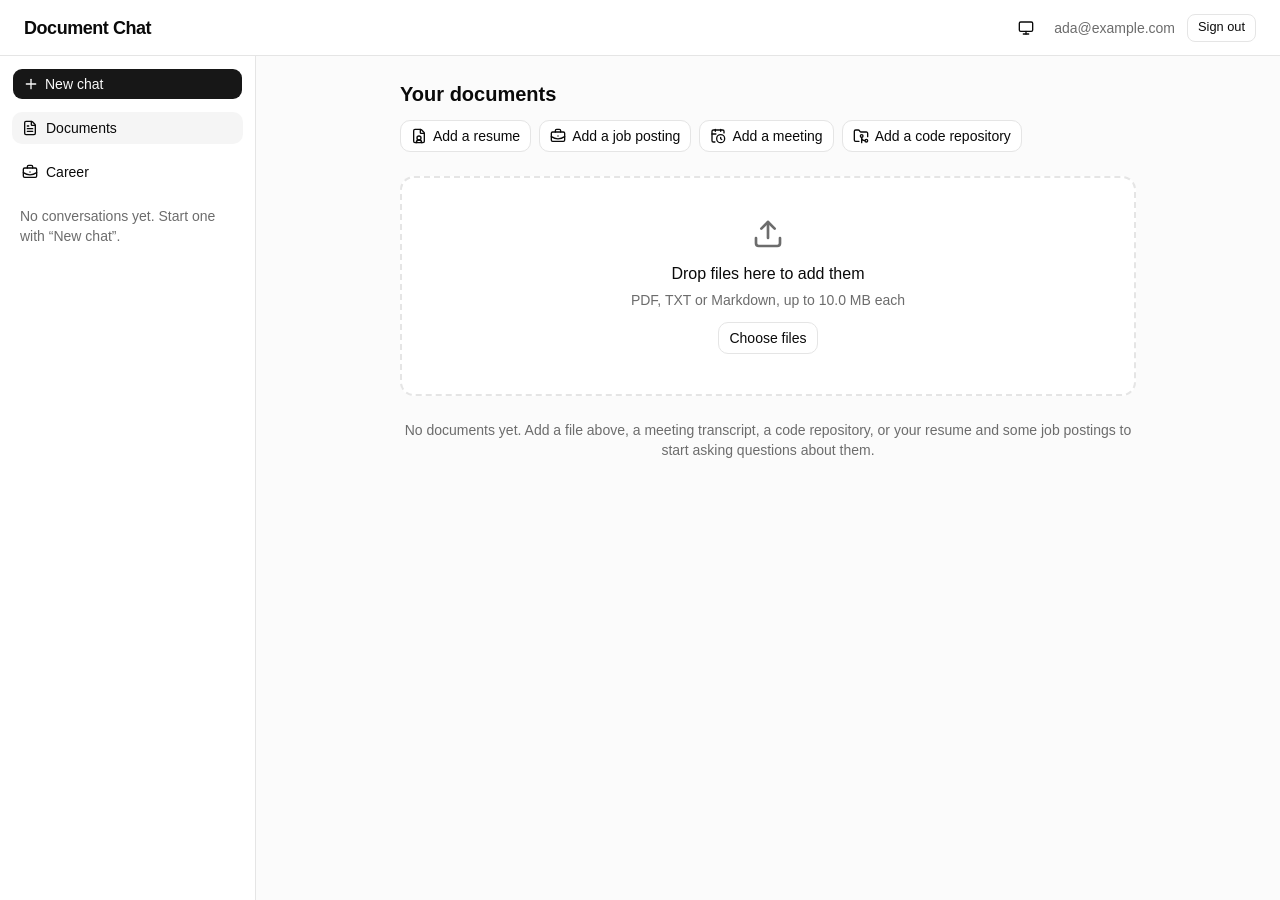
Scenario: adding a job posting › the dialog › opens from the documents page and says that postings are numbered
Click the button "Add a job posting". click: (615, 136)
box: [539,120,691,152]
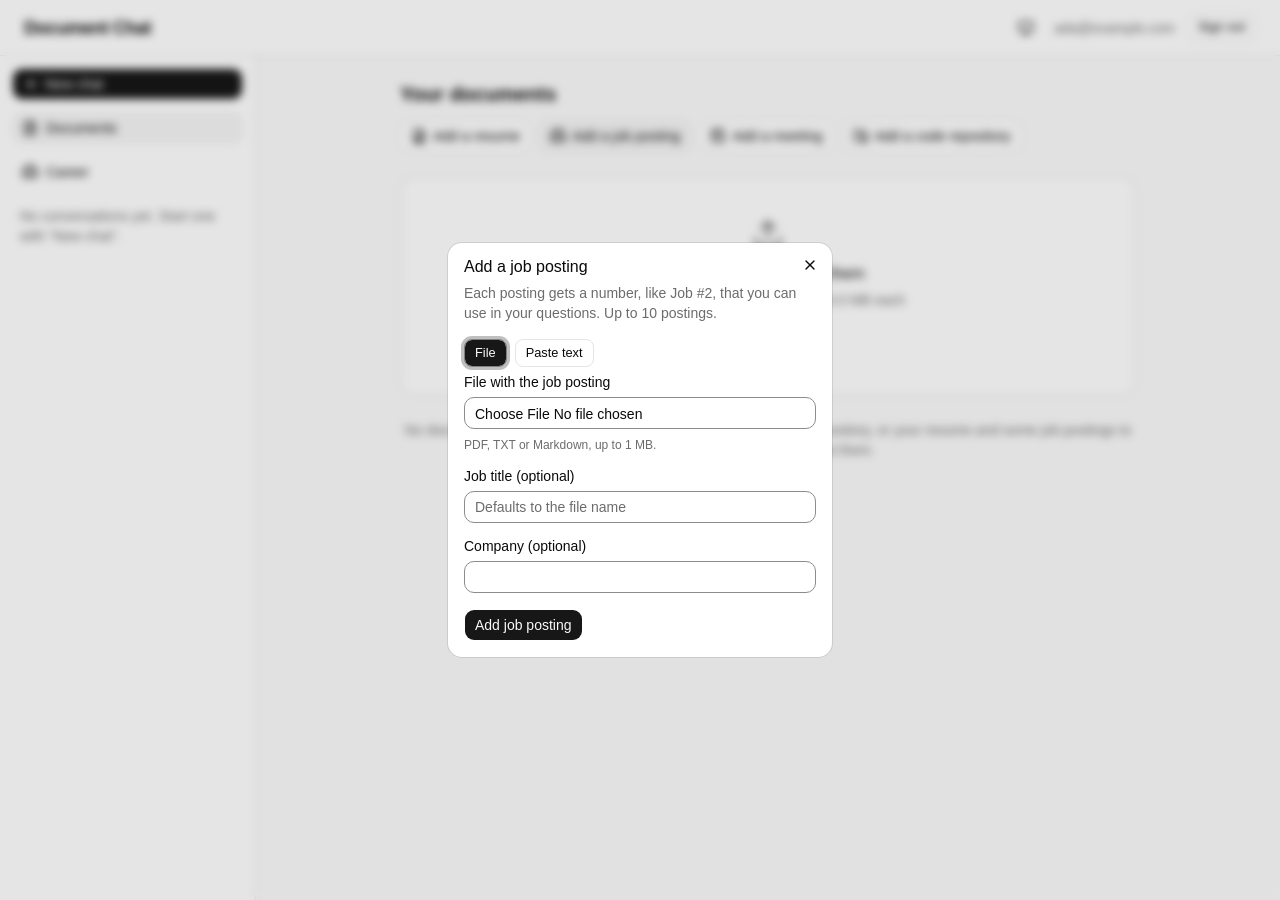
Check: the text "Up to 10 postings" is shown, box [464,285,796,321]
Check: the text "PDF, TXT or Markdown, up to 1 MB." is shown, box [464,438,656,452]
